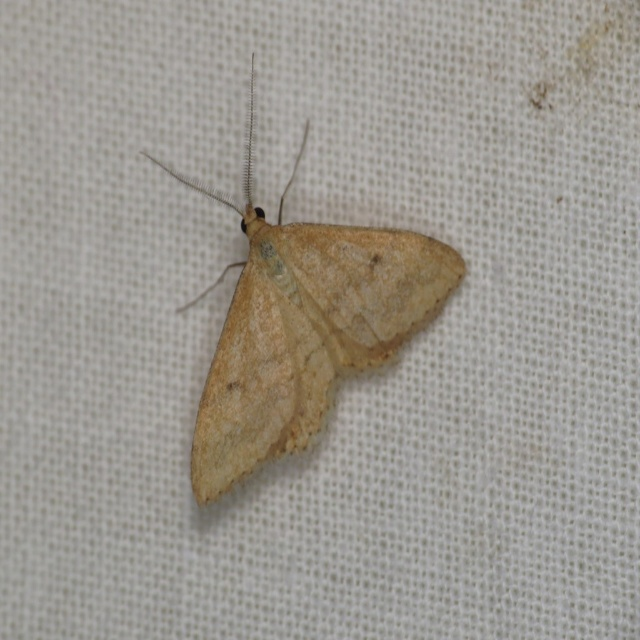Butterfly: (147, 44, 480, 508)
